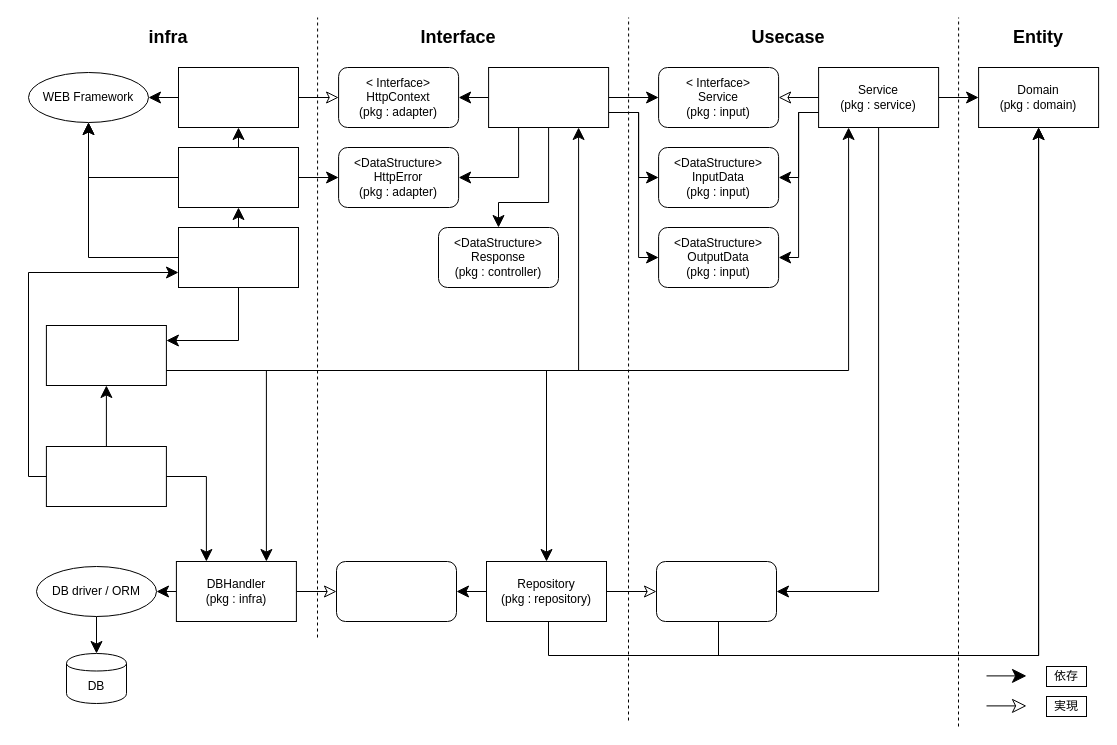
This 1117x745 diagram has some shape labels left out. The shapes that lost their labels are listed below. From the top down, each one's box as (x1, y1, x2, y2) in pixels, then its label:
(178, 66, 298, 128): HttpContext (pkg : infra)
(488, 66, 609, 128): Controller (pkg : controller)
(178, 146, 298, 208): HttpHandler (pkg : infra)
(178, 226, 298, 288): Router (pkg : infra)
(45, 324, 166, 386): Container (pkg : di)
(45, 446, 166, 506): main (pkg : main)
(336, 560, 456, 622): < Interface> DBHandler (pkg : adapter)
(656, 560, 776, 622): < Interface> Repository (pkg : dao)
